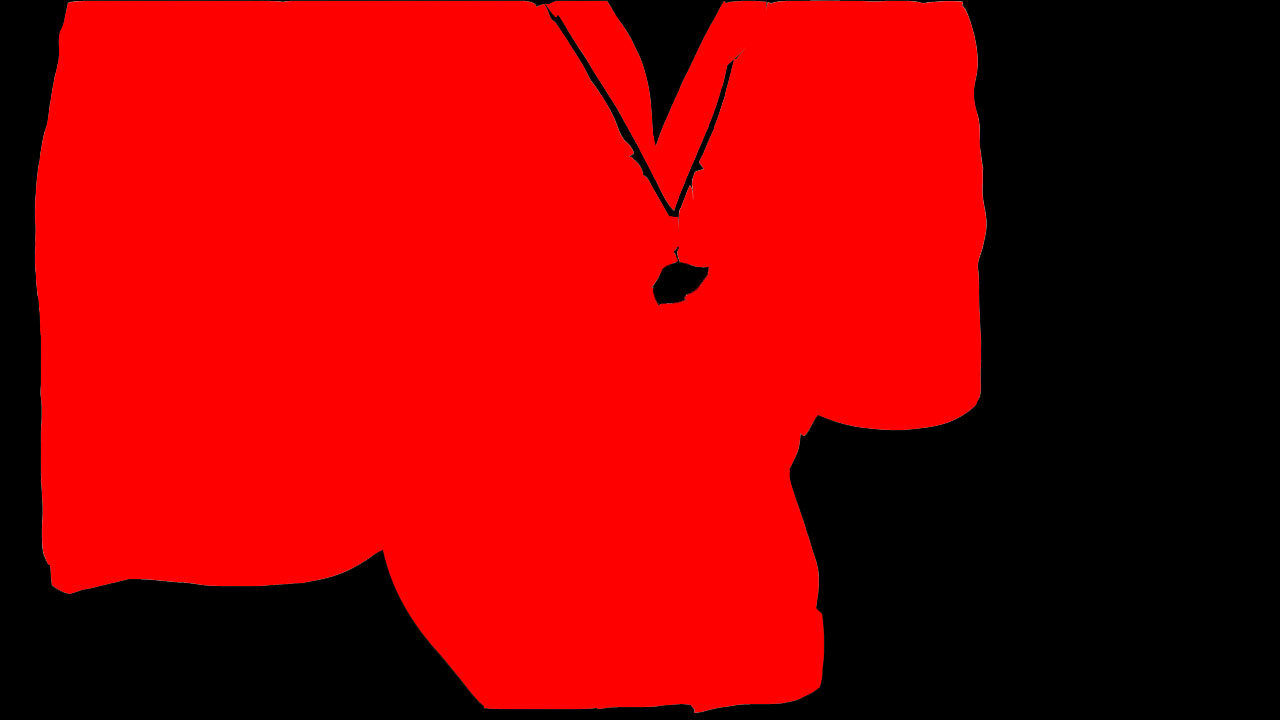uniforme_ifmt: (43, 7, 979, 720)
